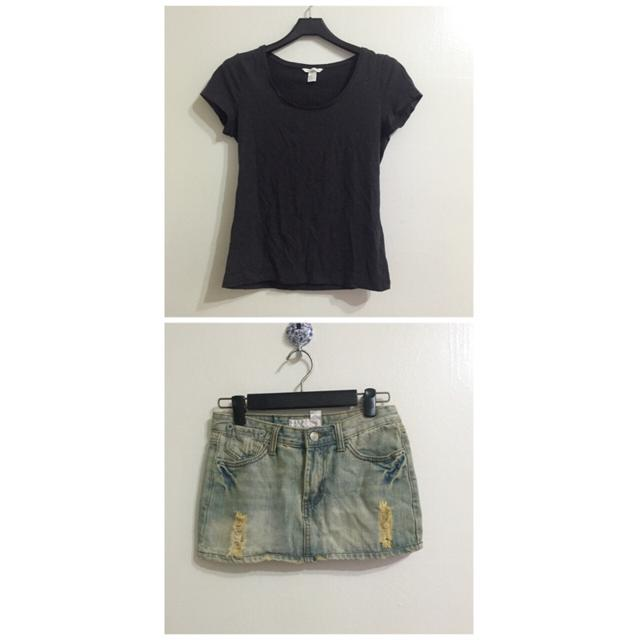Shorts: (194, 397, 422, 565)
Tops: (200, 40, 422, 292)
